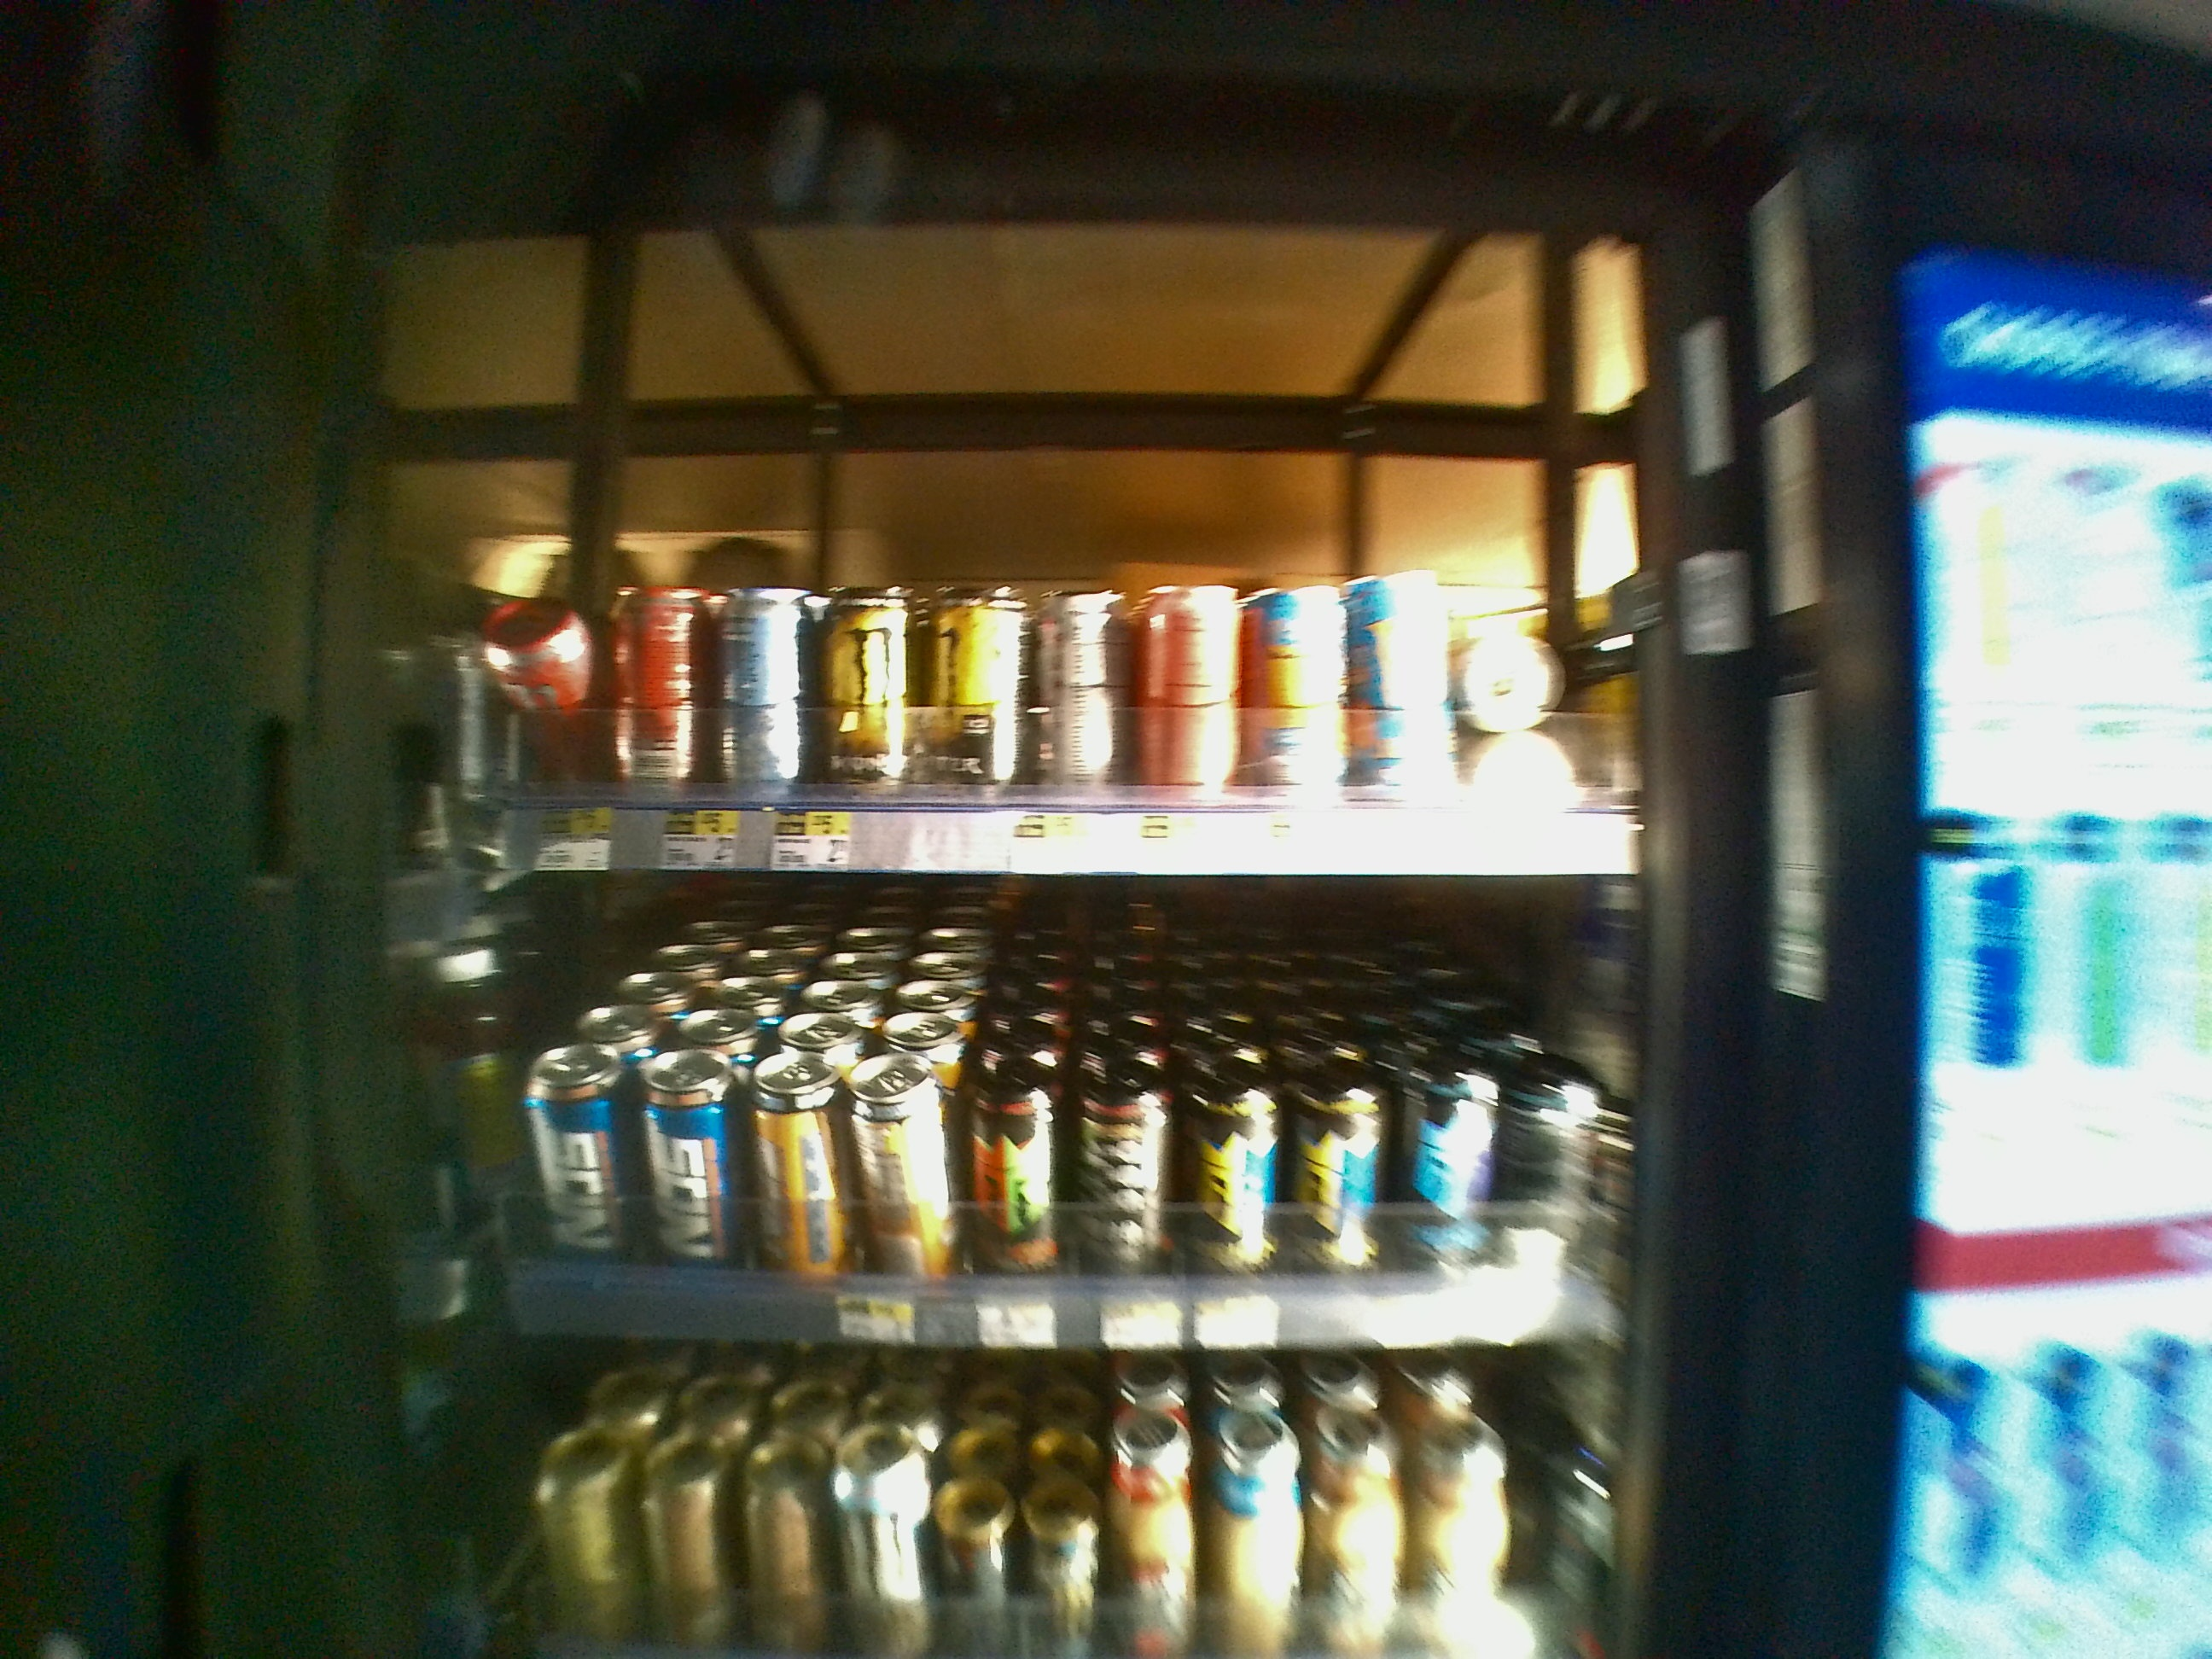shelf: (399, 235, 1655, 868), (383, 868, 1649, 1345)
